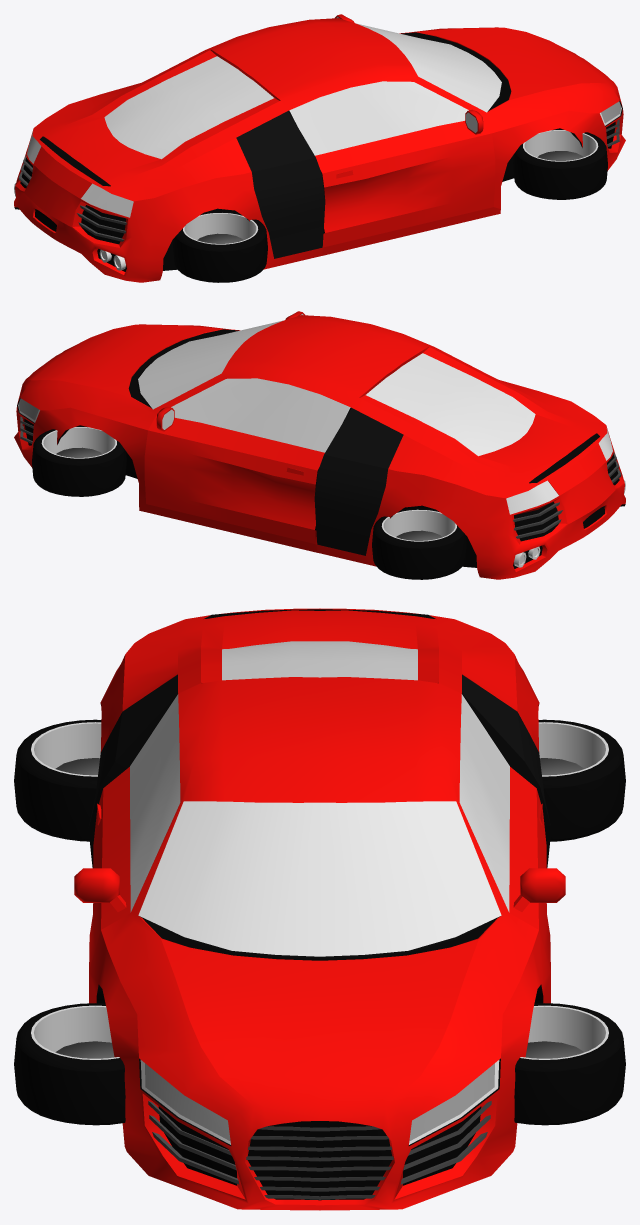
File: A_R7_FlyingCab.fbx
3 renders of one model, top to bottom at view 1: azimuth 30°, elevation 25°; view 2: azimuth 150°, elevation 25°; view 3: azimuth 270°, elevation 25°, orthographic. The views are drawn at different scales.
Parts seen in each view (by area): view 1: Body_A_R7_1, Nozzle_Rear_Right, Nozzle_Front_Right; view 2: Body_A_R7_1, Nozzle_Rear_Left, Nozzle_Front_Left; view 3: Body_A_R7_1, Nozzle_Front_Left, Nozzle_Front_Right, Nozzle_Rear_Left, Nozzle_Rear_Right.
Part boxes in pixels (box(x1,y1,x2,y2)): Body_A_R7_1: box(14, 14, 625, 282); Nozzle_Rear_Right: box(173, 211, 267, 282); Nozzle_Front_Right: box(513, 128, 607, 199); Body_A_R7_1: box(14, 311, 625, 579); Nozzle_Rear_Left: box(372, 508, 466, 579); Nozzle_Front_Left: box(32, 425, 126, 496); Body_A_R7_1: box(74, 608, 565, 1210); Nozzle_Front_Left: box(514, 1003, 625, 1125); Nozzle_Front_Right: box(14, 1003, 125, 1125); Nozzle_Rear_Left: box(538, 719, 625, 841); Nozzle_Rear_Right: box(14, 719, 101, 841).
Size of the model in its own units: 339 by 188 by 85.59.
